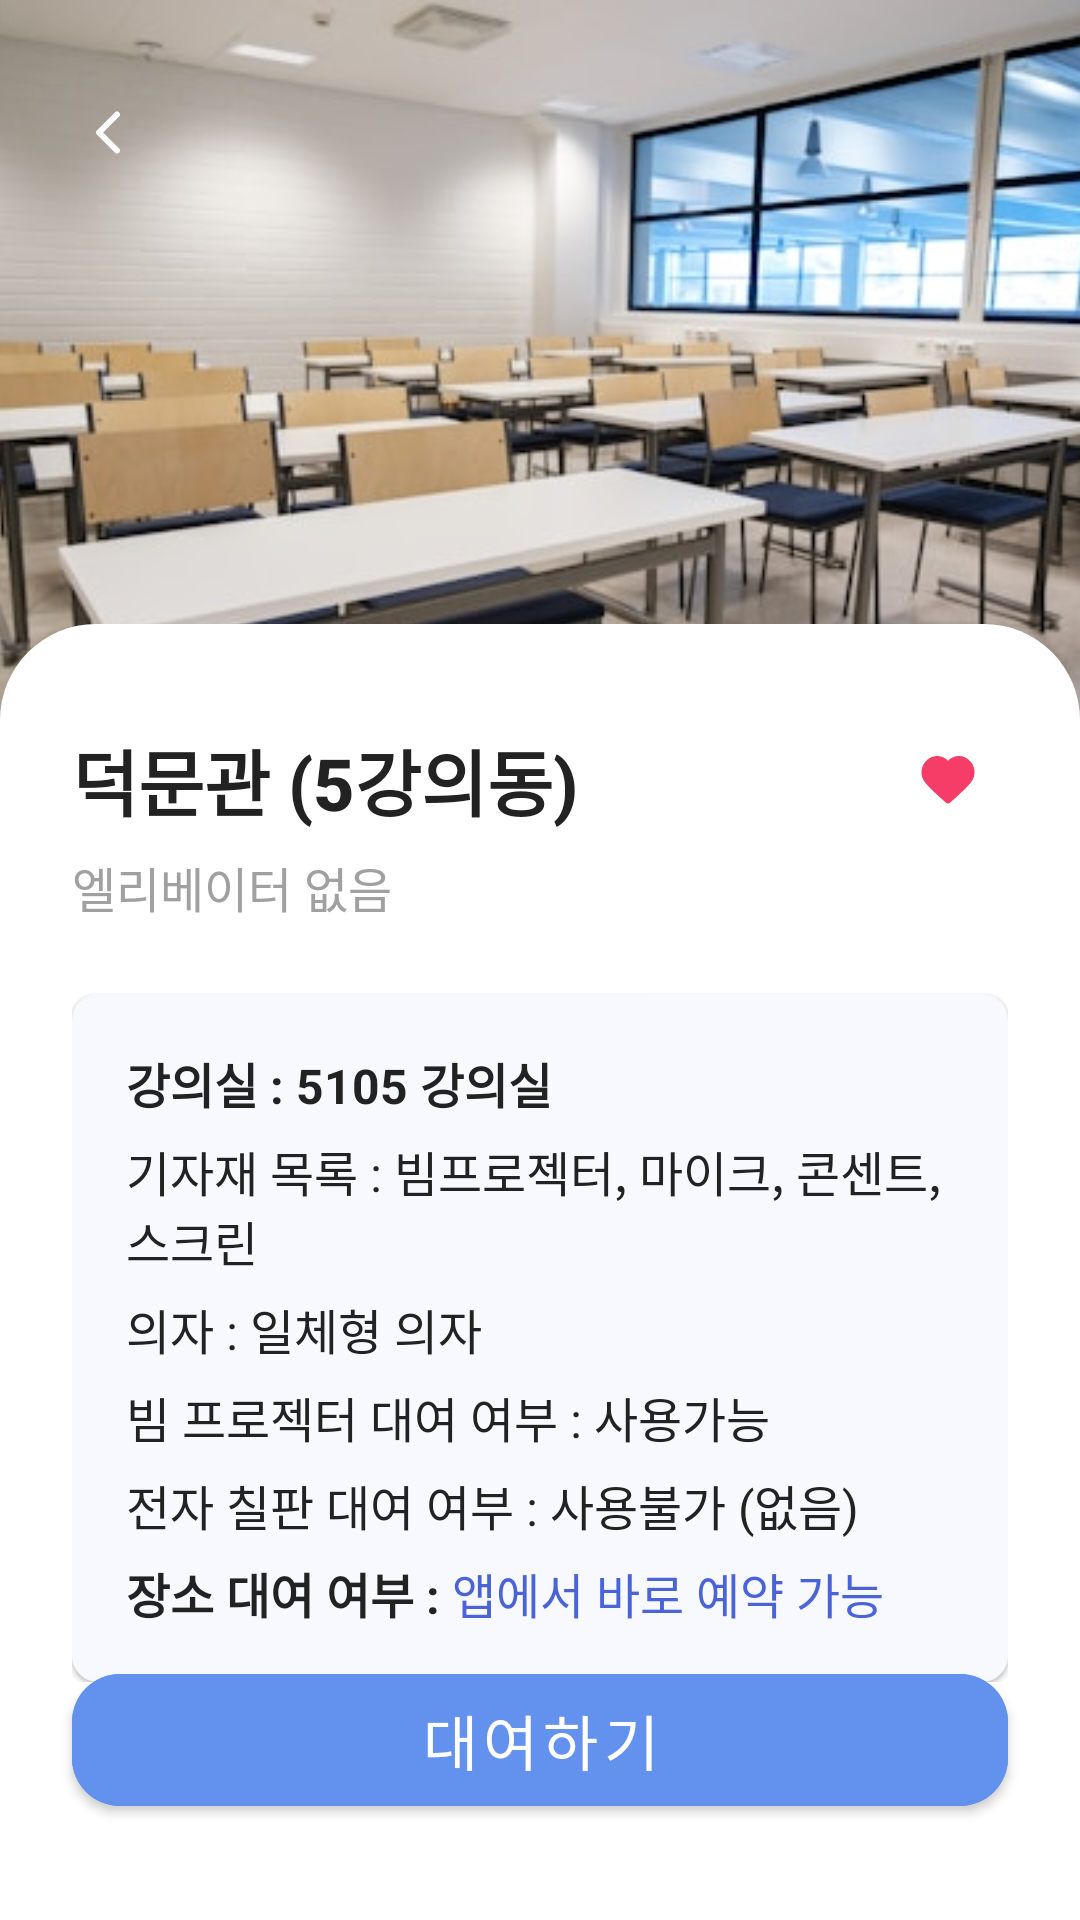

Icons on this 1080 x 1920 Android screen, each with its box as region(x1, y1, x2, y2):
찜하기: region(921, 756, 975, 804)
